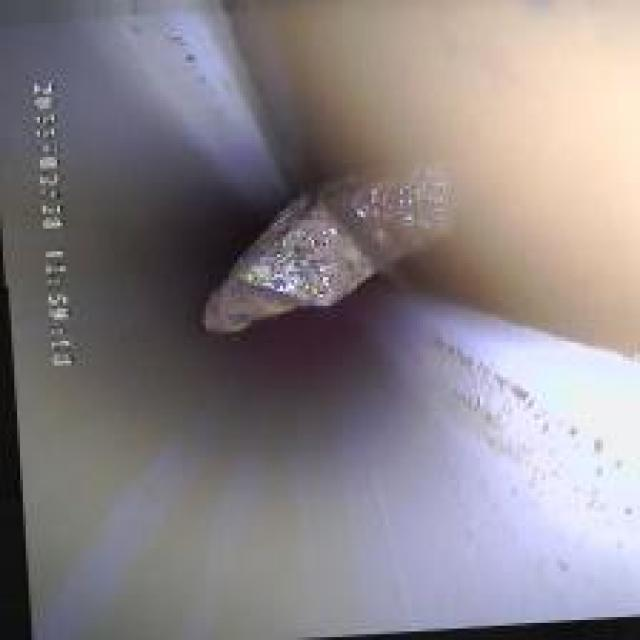stone: (171, 152, 506, 348)
